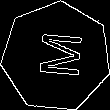M_W: (29, 32, 83, 82)
